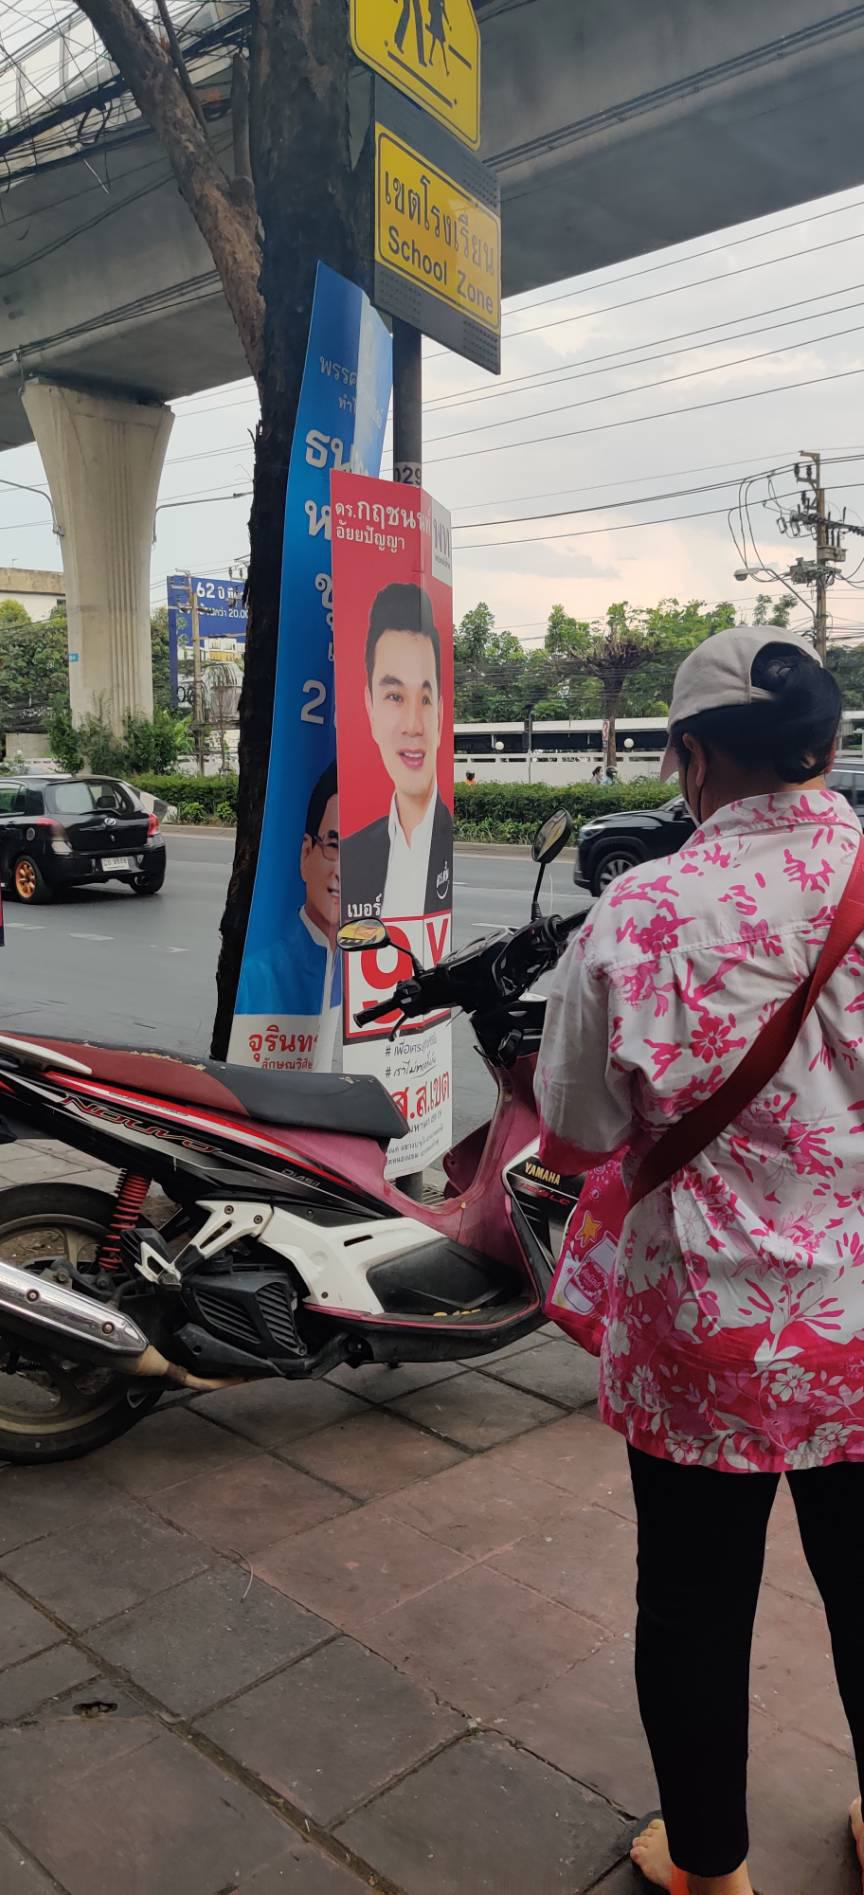Banner: (317, 468, 476, 1178)
